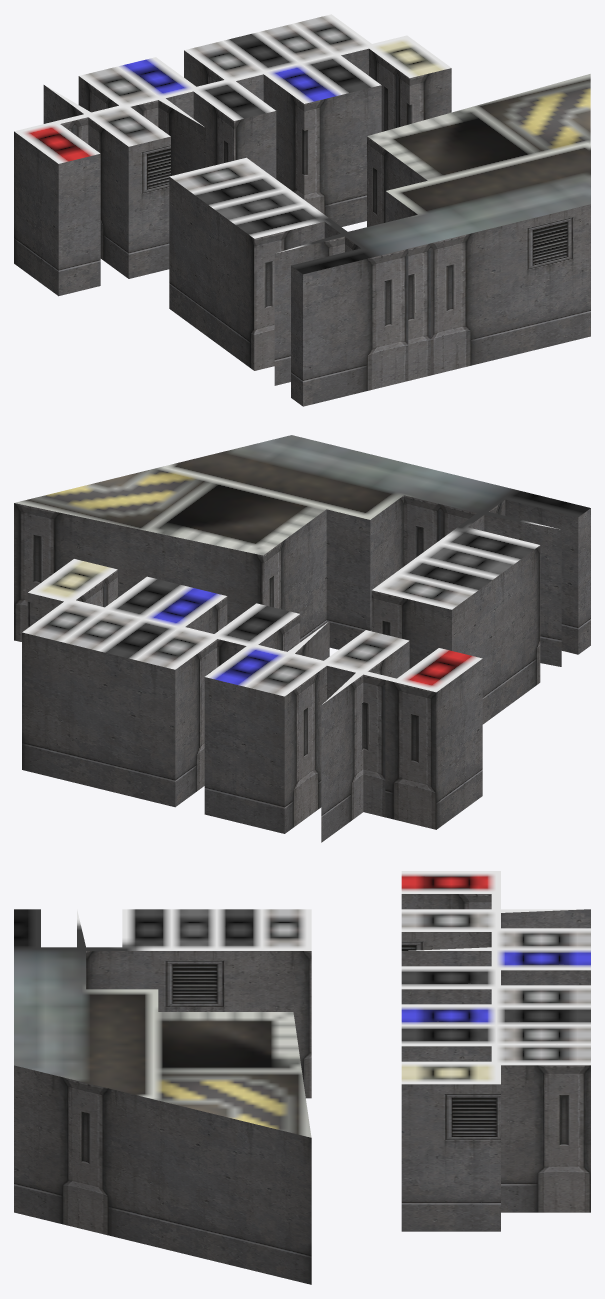
Rendered from BuildingSystem-03-Advance-04-ReinforcedLow-P-110-01.glb.
The picture shows the model from 3 angles, top to bottom: view 1: azimuth 30°, elevation 25°; view 2: azimuth 150°, elevation 25°; view 3: azimuth 270°, elevation 25°; orthographic projection. The views are drawn at different scales.
Parts seen in each view (by area): view 1: buildings/saxarba/SMV_Buildings/BuildingSystem-03-Advance-04; view 2: buildings/saxarba/SMV_Buildings/BuildingSystem-03-Advance-04; view 3: buildings/saxarba/SMV_Buildings/BuildingSystem-03-Advance-04.
Boxes of the visible parts, x1,y1,x2,y2 form: buildings/saxarba/SMV_Buildings/BuildingSystem-03-Advance-04: [14, 14, 590, 406]; buildings/saxarba/SMV_Buildings/BuildingSystem-03-Advance-04: [14, 435, 590, 842]; buildings/saxarba/SMV_Buildings/BuildingSystem-03-Advance-04: [14, 871, 590, 1284].
Size of the model in its own units: 70 by 18 by 64.
